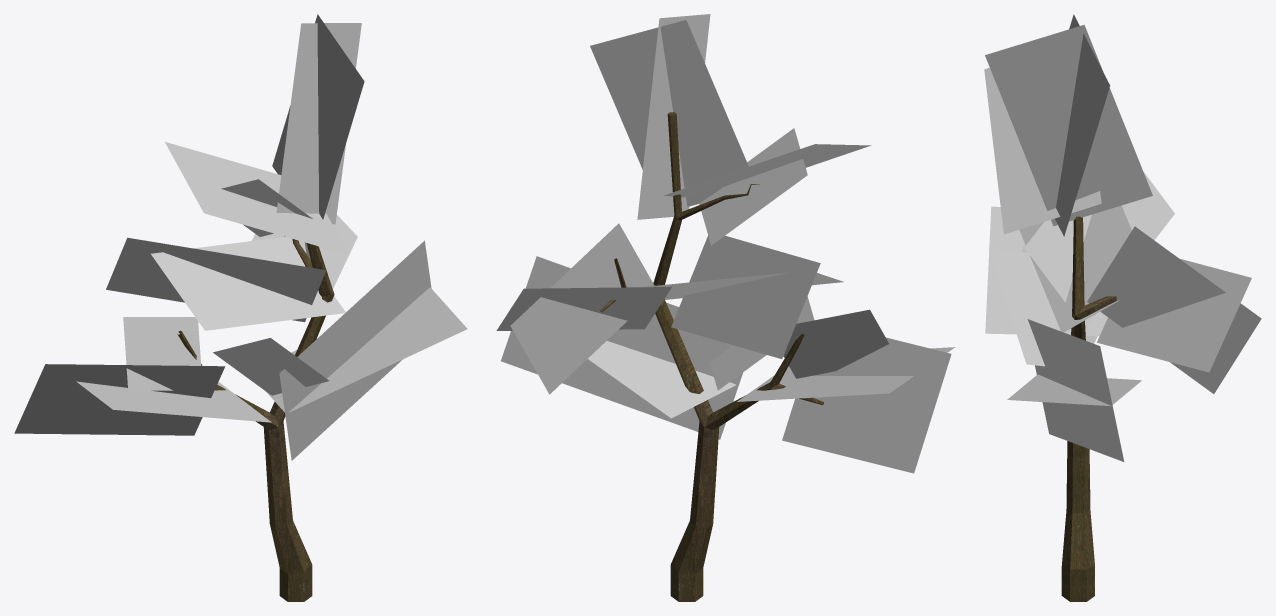
The model's file is Tree1.obj.
The picture shows the model from 3 angles, left to right: view 1: azimuth 30°, elevation 25°; view 2: azimuth 150°, elevation 25°; view 3: azimuth 270°, elevation 25°; orthographic projection.
Parts seen in each view (by area): view 1: Plane.001, Cylinder; view 2: Plane.001, Cylinder; view 3: Plane.001, Cylinder.
Boxes of the visible parts, <box> form: Plane.001: <box>14,14,467,460</box>; Cylinder: <box>177,236,334,601</box>; Plane.001: <box>496,14,955,473</box>; Cylinder: <box>600,112,823,601</box>; Plane.001: <box>984,14,1261,461</box>; Cylinder: <box>1061,216,1116,601</box>.
Size of the model in its own units: 9.37 by 12.2 by 5.26.
